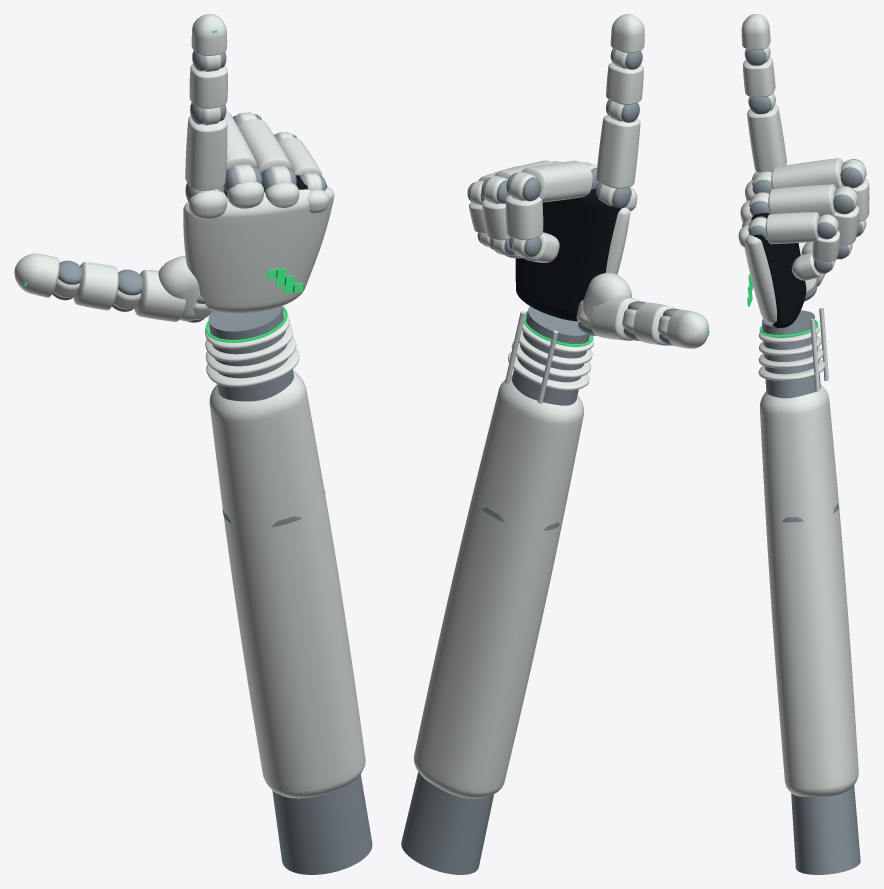
The model's file is kinemi-hand.glb.
The picture shows the model from 3 angles, left to right: view 1: azimuth 30°, elevation 25°; view 2: azimuth 150°, elevation 25°; view 3: azimuth 270°, elevation 25°; orthographic projection. The views are drawn at different scales.
Visible parts, largest first — view 1: Kinemi robot hand, object 2, object 16, object 60, object 57, object 63, object 37, object 7, object 19, object 22, object 27, object 47 (+3 smaller); view 2: Kinemi robot hand, object 1, object 16, object 27, object 30, object 63, object 57, object 19, object 7, object 22, object 60, object 2 (+1 smaller); view 3: Kinemi robot hand, object 1, object 16, object 37, object 27, object 2, object 47, object 19, object 22, object 40, object 50, object 53 (+6 smaller).
Part boxes in pixels (x1=…): Kinemi robot hand: x1=205, y1=306, x2=372, y2=874; object 2: x1=183, y1=186, x2=334, y2=314; object 16: x1=185, y1=116, x2=227, y2=190; object 60: x1=73, y1=262, x2=118, y2=310; object 57: x1=134, y1=270, x2=185, y2=321; object 63: x1=14, y1=253, x2=59, y2=297; object 37: x1=238, y1=119, x2=291, y2=173; object 7: x1=158, y1=256, x2=200, y2=321; object 19: x1=189, y1=64, x2=227, y2=108; object 22: x1=191, y1=14, x2=227, y2=55; object 27: x1=225, y1=111, x2=256, y2=169; object 47: x1=278, y1=137, x2=321, y2=175; Kinemi robot hand: x1=401, y1=306, x2=593, y2=874; object 1: x1=515, y1=188, x2=621, y2=321; object 16: x1=596, y1=115, x2=640, y2=188; object 27: x1=521, y1=160, x2=592, y2=202; object 30: x1=505, y1=195, x2=543, y2=240; object 63: x1=667, y1=309, x2=708, y2=348; object 57: x1=591, y1=296, x2=639, y2=340; object 19: x1=606, y1=62, x2=643, y2=104; object 7: x1=583, y1=273, x2=631, y2=335; object 22: x1=610, y1=14, x2=644, y2=53; object 60: x1=633, y1=302, x2=674, y2=345; object 2: x1=605, y1=207, x2=630, y2=274; Kinemi robot hand: x1=758, y1=308, x2=860, y2=874; object 1: x1=751, y1=213, x2=806, y2=327; object 16: x1=747, y1=104, x2=786, y2=172; object 37: x1=768, y1=184, x2=836, y2=216; object 27: x1=771, y1=158, x2=843, y2=188; object 2: x1=742, y1=218, x2=777, y2=324; object 47: x1=765, y1=212, x2=819, y2=244; object 19: x1=742, y1=57, x2=775, y2=97; object 22: x1=741, y1=14, x2=770, y2=50; object 40: x1=833, y1=205, x2=859, y2=245; object 50: x1=812, y1=230, x2=840, y2=262; object 53: x1=791, y1=252, x2=821, y2=280.
Bounding box in the file's own units: 2.26 × 5.86 × 0.8814.
